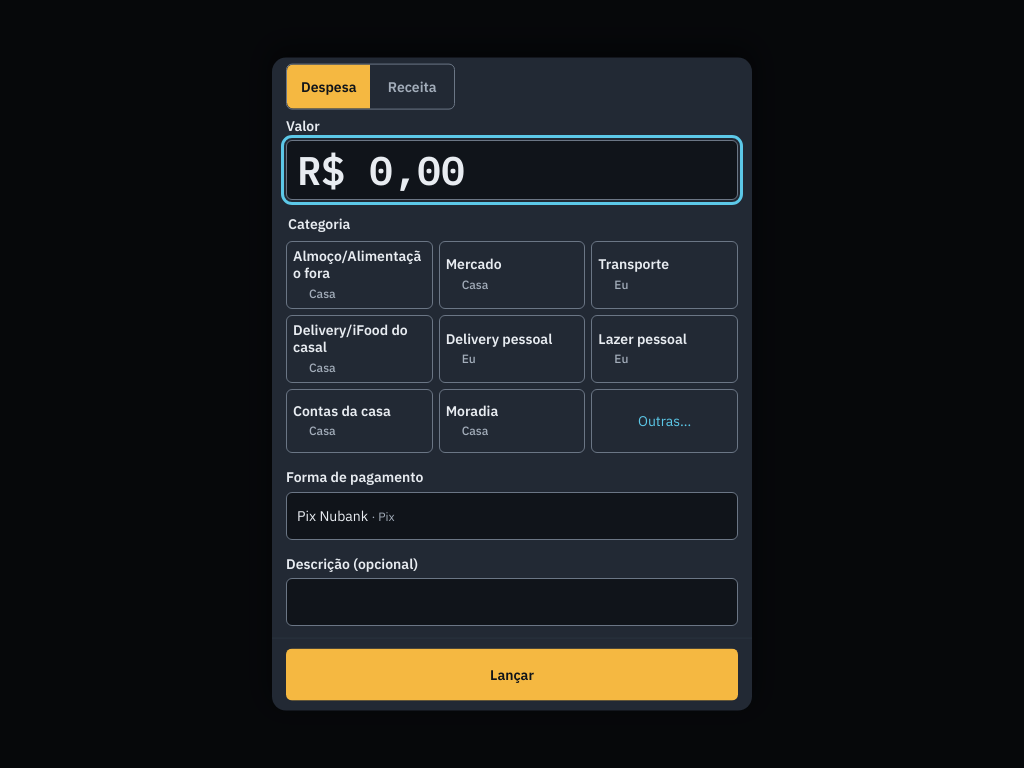
Test: FolhaLancar no modo receita › sem categoria: "Escolha uma categoria." e nada é enviado
Click the radio button labelled "Receita" at (412, 86), box [388, 77, 436, 95]
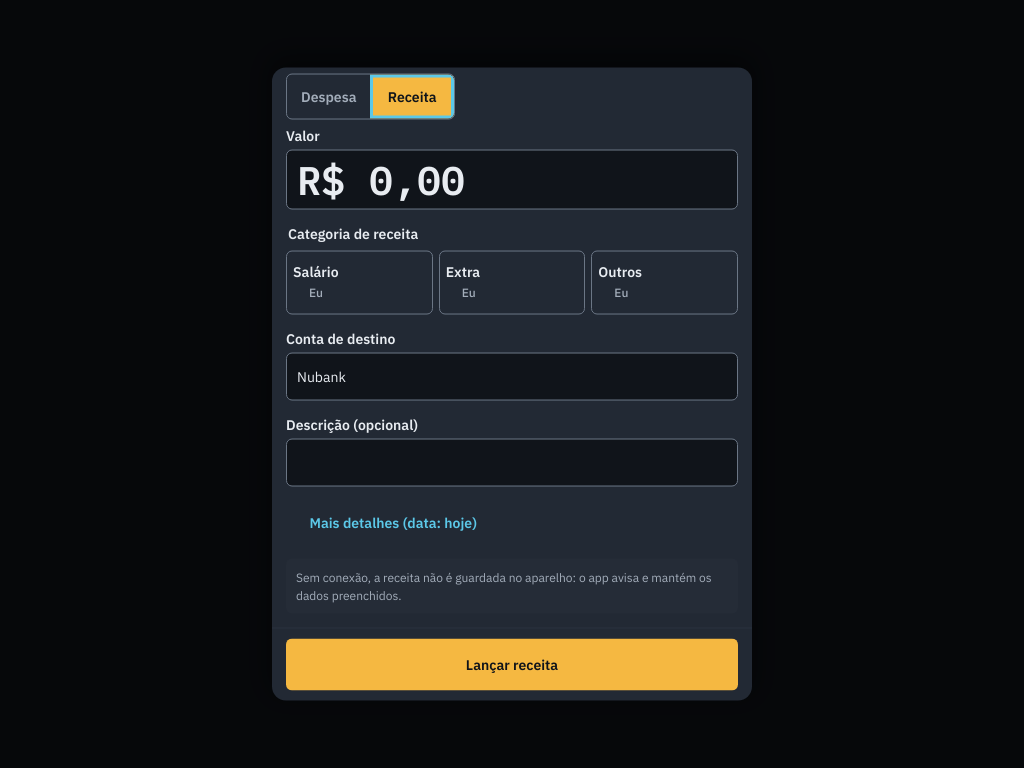
Click the field labelled "Valor" at (512, 180), box [286, 150, 738, 210]
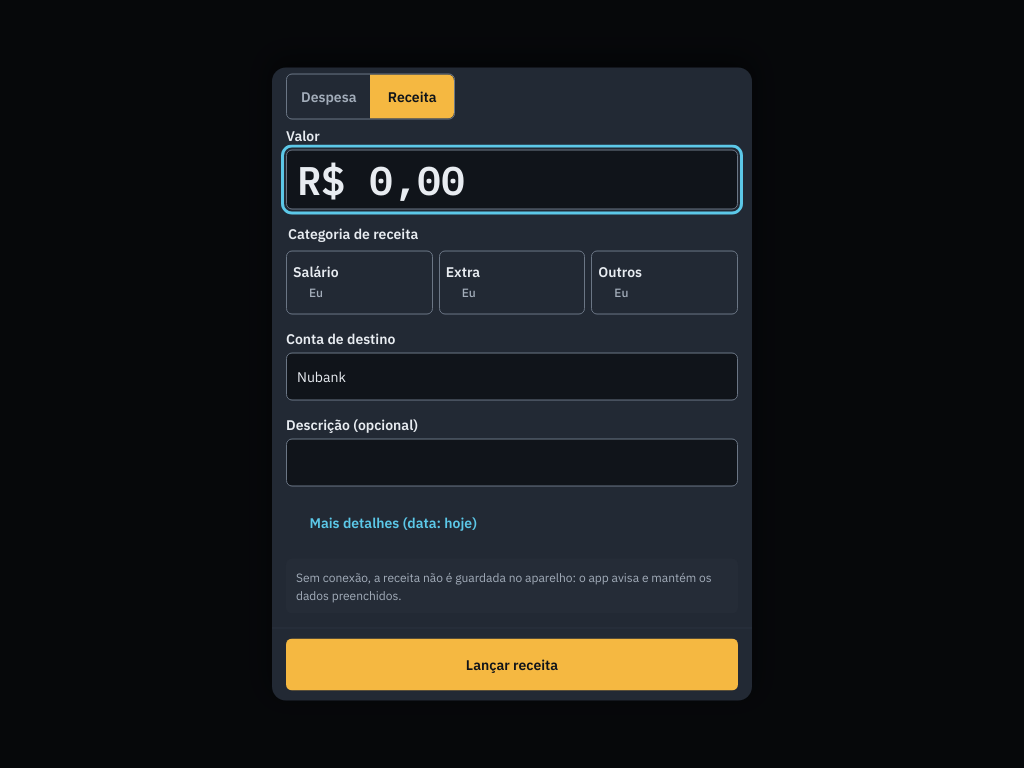
Type keys "750000"
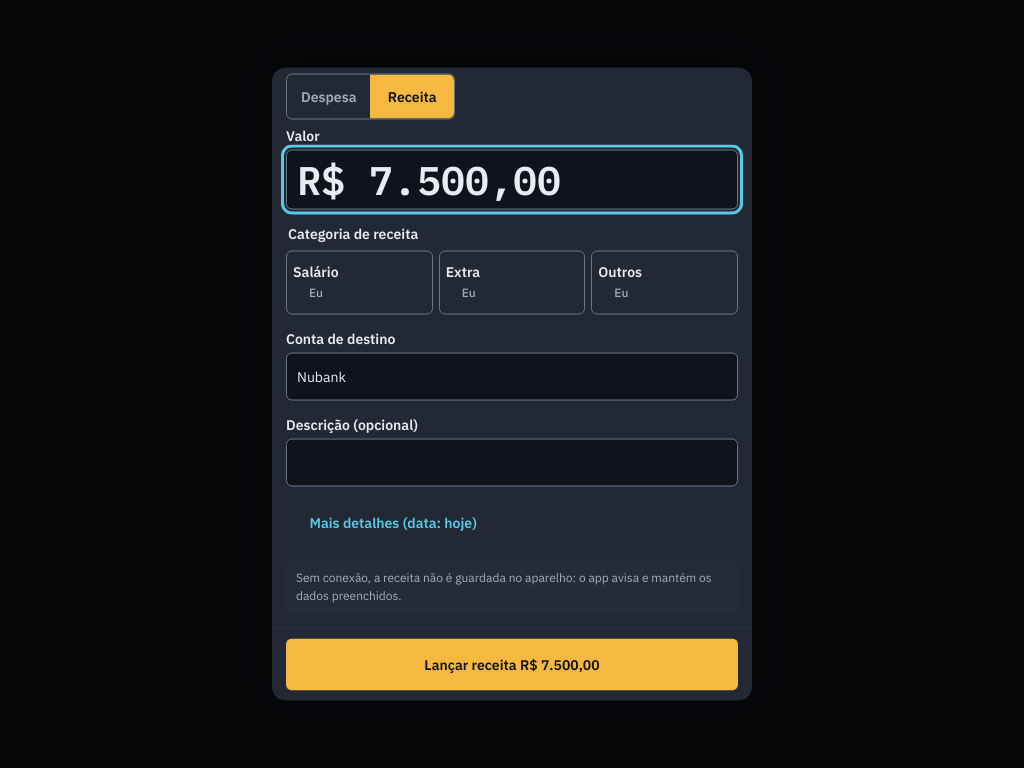
Click the button "Lançar receita R$ 7.500,00" at (512, 664), box [286, 638, 738, 690]
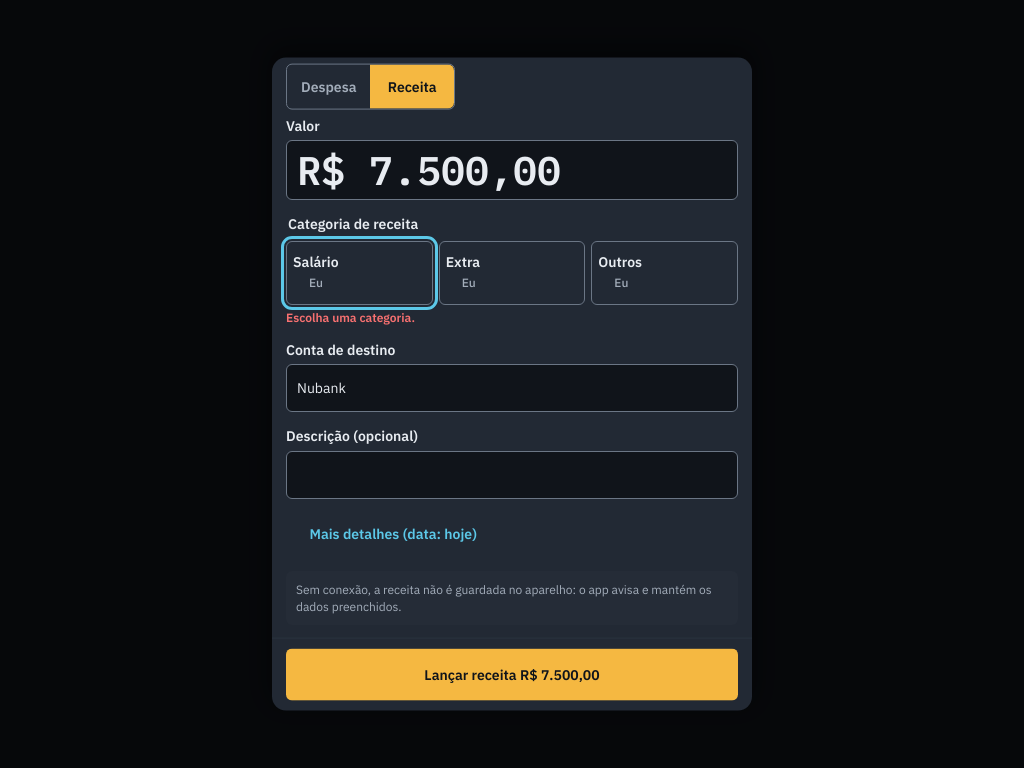
Check: the text "Escolha uma categoria." is shown, box [286, 309, 415, 324]
